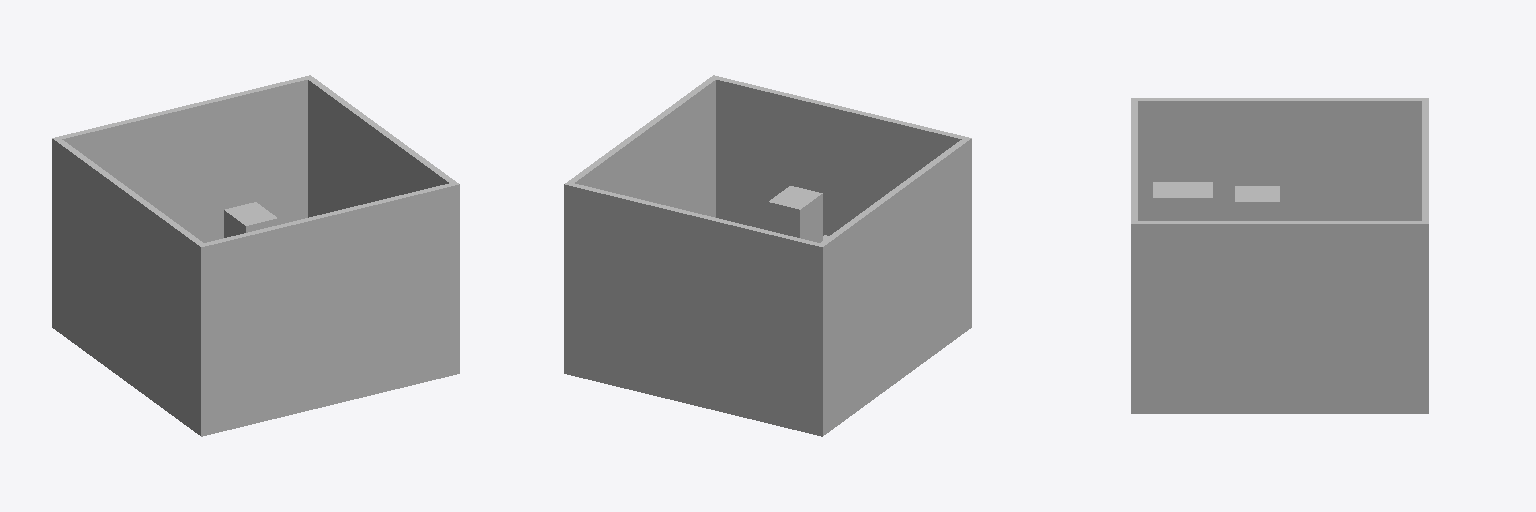
The model's file is Level2.obj.
3 renders of one model, left to right at view 1: azimuth 30°, elevation 25°; view 2: azimuth 150°, elevation 25°; view 3: azimuth 270°, elevation 25°, orthographic.
Parts seen in each view (by area): view 1: object 1; view 2: object 1; view 3: object 1.
Part boxes in pixels (bbox=[...]): object 1: bbox=[52, 75, 459, 436]; object 1: bbox=[564, 75, 971, 436]; object 1: bbox=[1131, 98, 1428, 413].
Bounding box in the file's own units: 4 × 2.8 × 4.